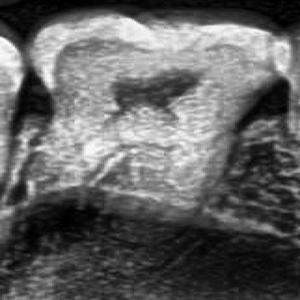tooth: (24, 8, 287, 210)
